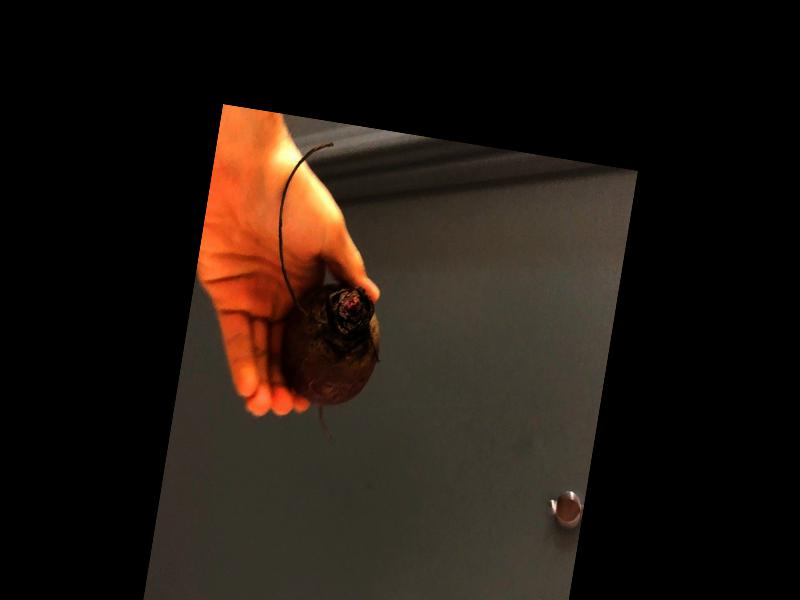Beet: (244, 137, 409, 442)
